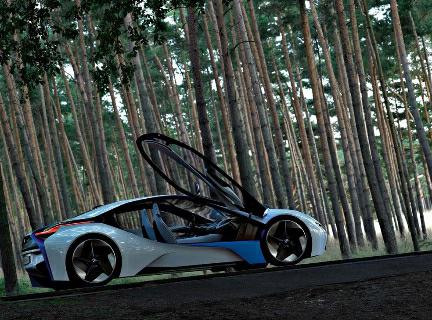宝马-EfficientDynamics: (17, 193, 332, 293)
